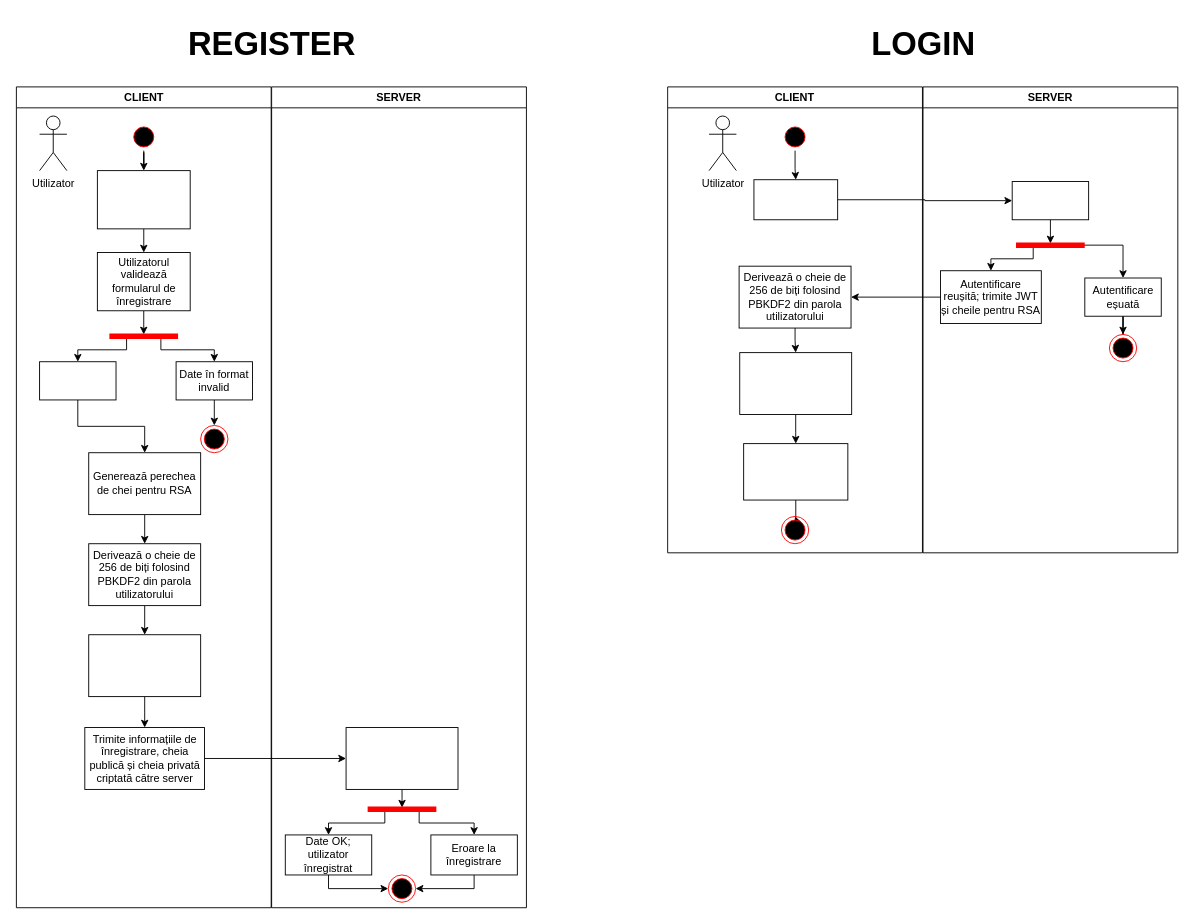
The diagram is 1194 pixels wide and 924 high, and some of its shapes have lost their labels. The centre of each missing label's shape, as x and y in pixels:
"Criptează cheia privată pentru RSA folosind AES cu cheia derivată din parolă" belongs at point 144,665.
"Date în format valid" belongs at point 77,380.
"Decriptează cheia privată primită" belongs at point 795,383.
"Stochează în mod sigur JWT și perechea de chei" belongs at point 795,471.
"Trimite detaliile de autentificare" belongs at point 795,199.
"Utilizatorul introduce datele pentru înregistrare" belongs at point 143,199.
"Verifică datele" belongs at point 1050,200.
"Verifică datele de înregistrare" belongs at point 401,758.
